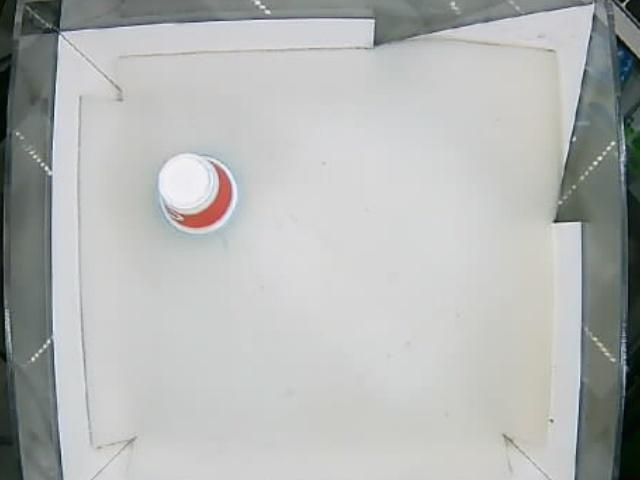Cup: (154, 152, 240, 238)
